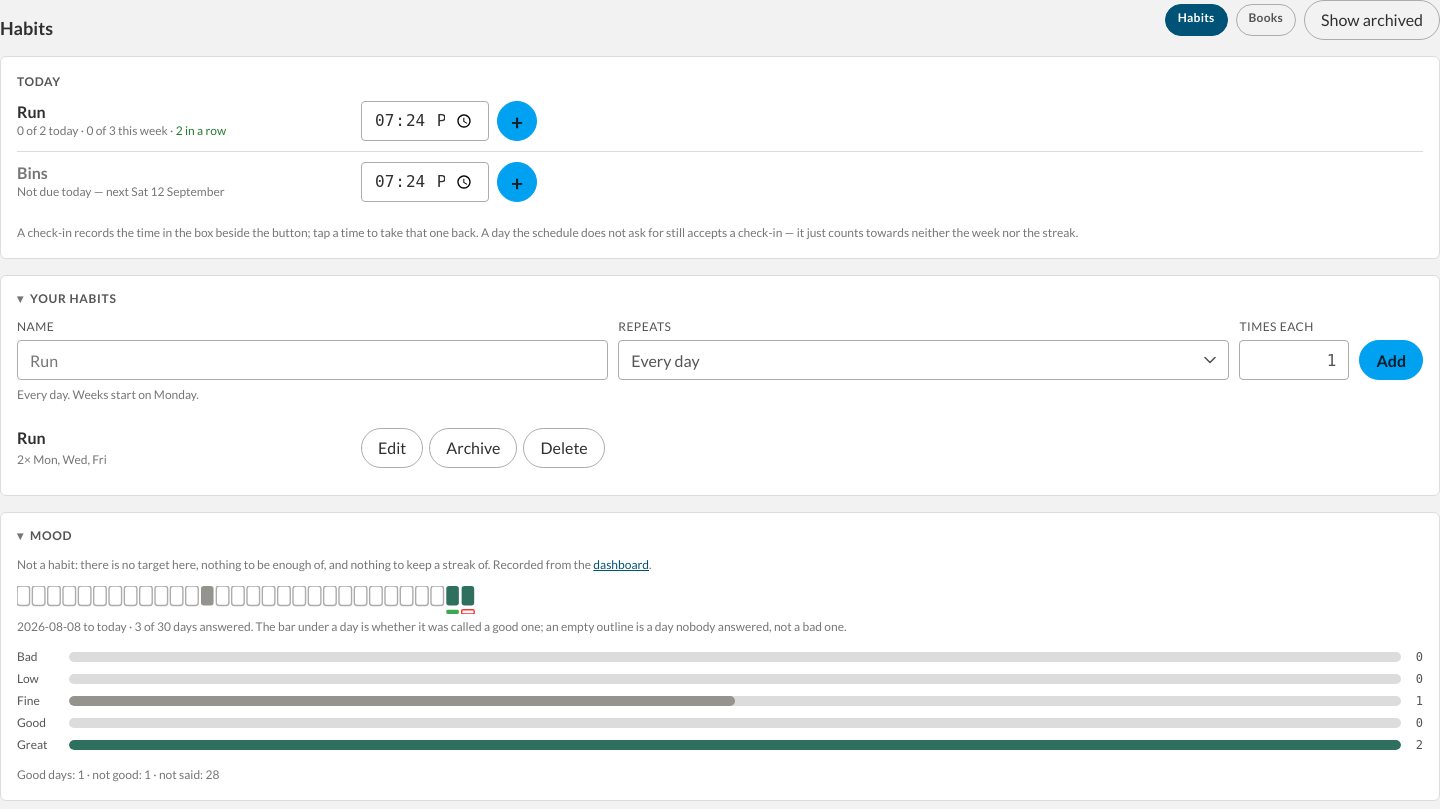
Test: HabitsPage › refuses an out-of-range interval itself, rather than letting the server say it in English
The width and height of the screenshot is (1440, 809).
Type "Read" into the field named "Habit name" at (313, 360), box 17,340 -> 608,380
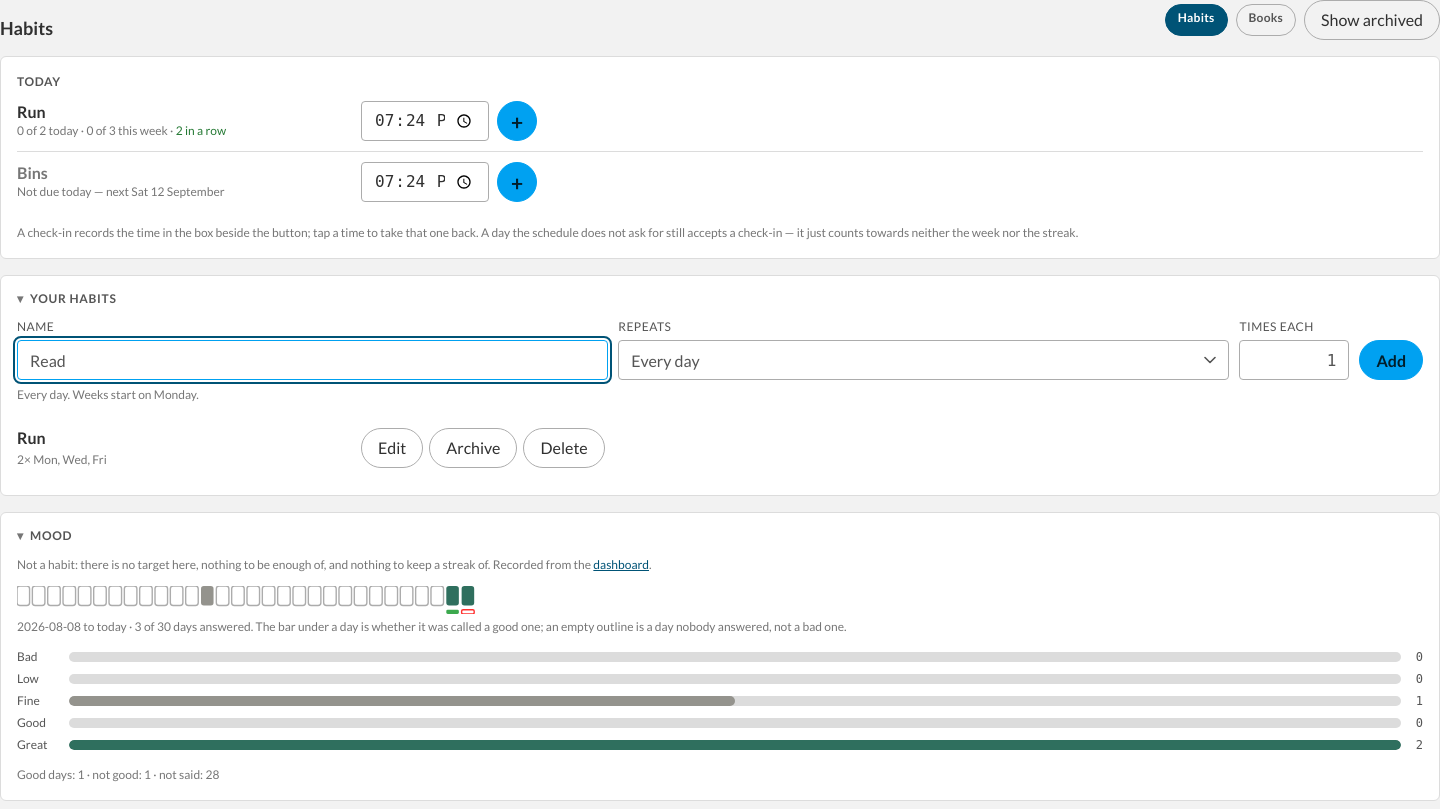
Select "Every so many days" in the dropdown named "New habit: repeats" at (924, 360), box 618,340 -> 1229,380
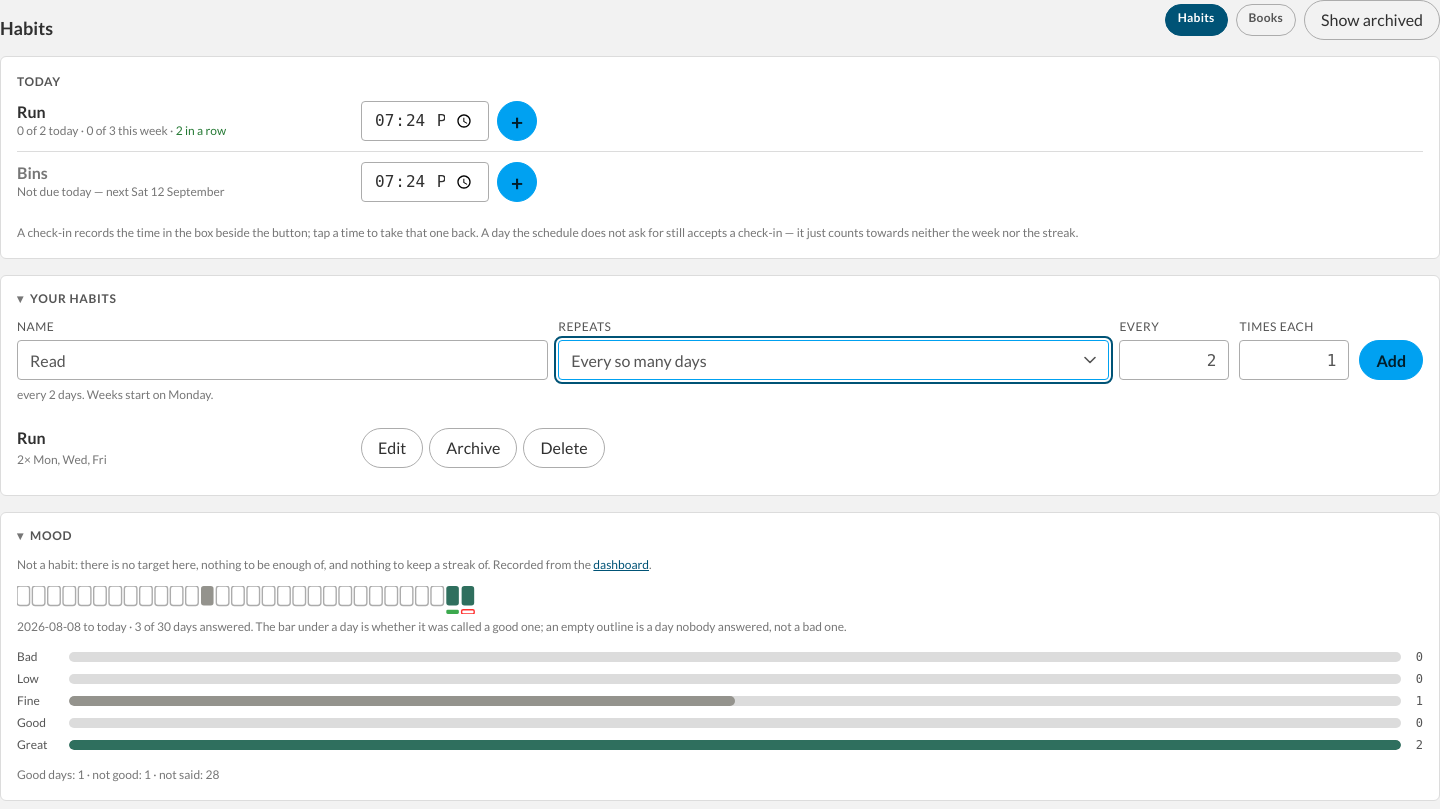
Type "400" into the field named "New habit: interval in days" at (1174, 360), box 1119,340 -> 1229,380
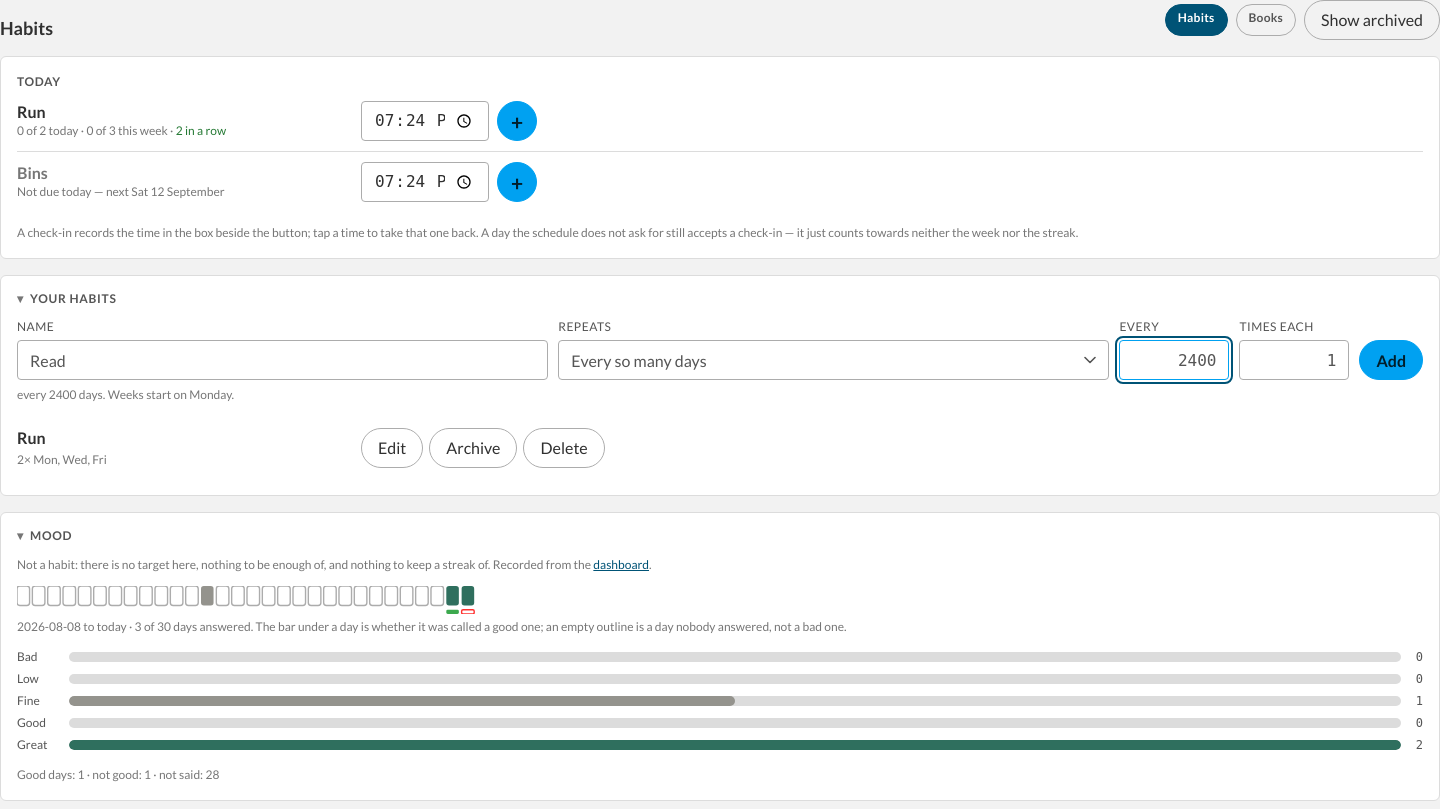
Expected: the field named "New habit: interval in days" holds "2400", 1119,340 -> 1229,380
Click the button "Add" at (1391, 360), box 1359,340 -> 1423,380
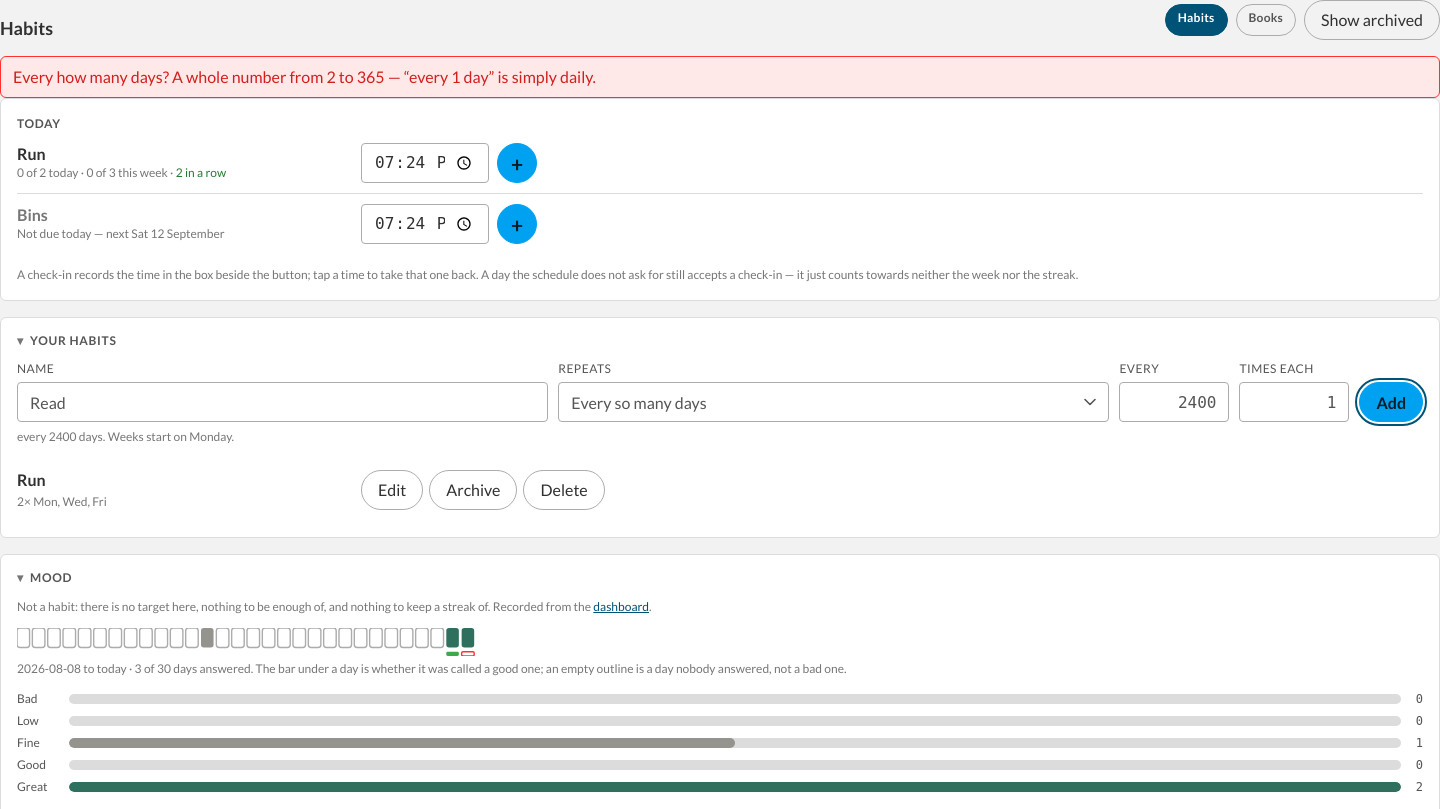
Expected: the message shows "2 to 365", 13,67 -> 596,86
